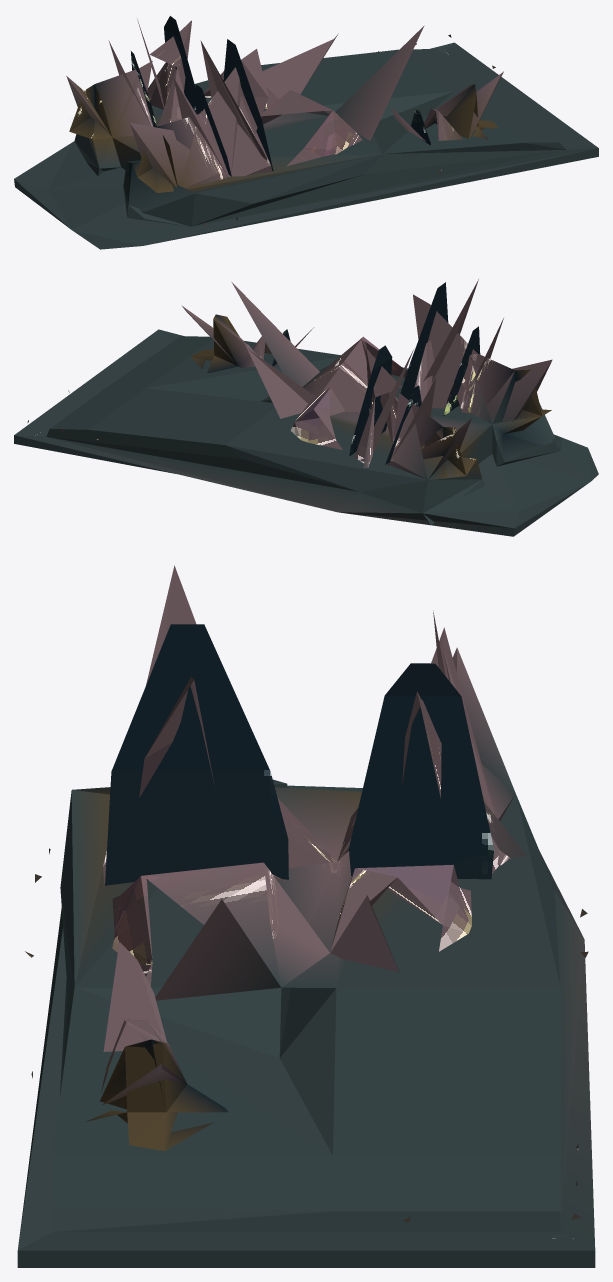
3 views of the same model, one above another, from view 1: azimuth 30°, elevation 25°; view 2: azimuth 150°, elevation 25°; view 3: azimuth 270°, elevation 25° (orthographic). The views are drawn at different scales.
Parts seen in each view (by area): view 1: Object_4, Object_9; view 2: Object_4, Object_9; view 3: Object_4, Object_9.
Part boxes in pixels (box(x1,y1,x2,y2)): Object_4: box(14, 19, 598, 249); Object_9: box(131, 16, 495, 226); Object_4: box(14, 279, 598, 536); Object_9: box(27, 282, 480, 500); Object_4: box(17, 565, 595, 1267); Object_9: box(25, 624, 588, 1222).
Size of the model in its own units: 37.44 by 13.14 by 19.53.
